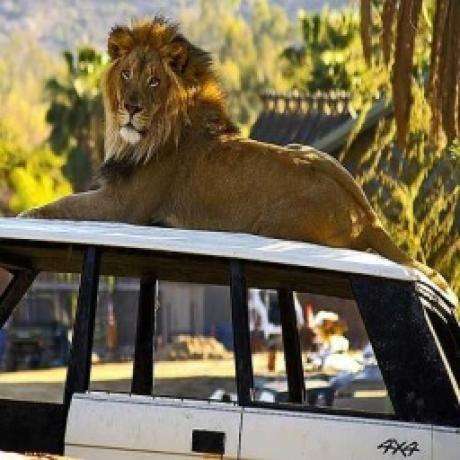Lion: (19, 18, 417, 265)
